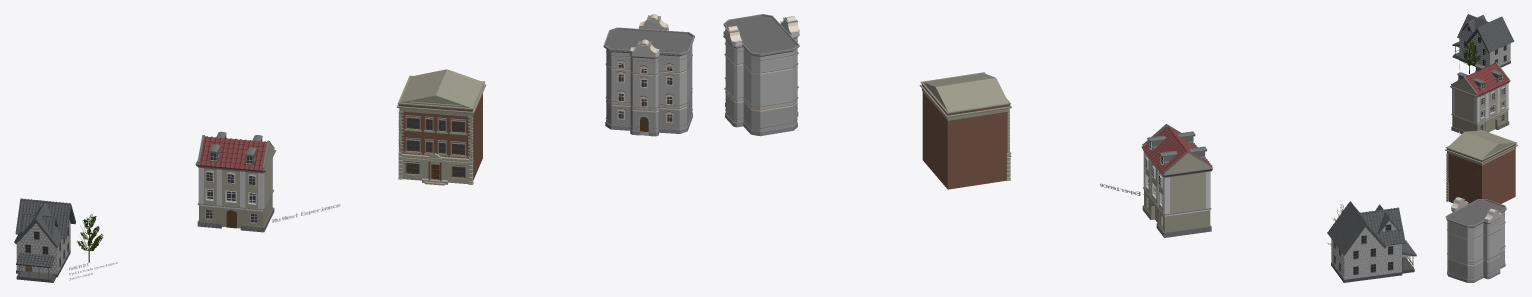
The model's file is scene_experience.glb.
The picture shows the model from 3 angles, left to right: view 1: azimuth 30°, elevation 25°; view 2: azimuth 150°, elevation 25°; view 3: azimuth 270°, elevation 25°; orthographic projection. The views are drawn at different scales.
Parts seen in each view (by area): view 1: Building4, Building3_Big, Building1_Small, House1, Tree1; view 2: Building3_Big, Building4, Building1_Small, House1; view 3: Building3_Big, Building4, Building1_Small, House1, Tree1.
Part boxes in pixels (x1=…): Building4: x1=603, y1=14, x2=694, y2=136; Building3_Big: x1=396, y1=69, x2=486, y2=185; Building1_Small: x1=195, y1=131, x2=276, y2=232; House1: x1=14, y1=198, x2=75, y2=282; Tree1: x1=76, y1=214, x2=103, y2=262; Building3_Big: x1=919, y1=72, x2=1011, y2=189; Building4: x1=723, y1=14, x2=799, y2=136; Building1_Small: x1=1141, y1=124, x2=1212, y2=237; House1: x1=1327, y1=201, x2=1416, y2=282; Building3_Big: x1=1445, y1=130, x2=1517, y2=203; Building4: x1=1445, y1=197, x2=1506, y2=282; Building1_Small: x1=1450, y1=62, x2=1510, y2=133; House1: x1=1452, y1=14, x2=1514, y2=67; Tree1: x1=1460, y1=41, x2=1480, y2=73.
Size of the model in its own units: 101 by 14.17 by 13.32.
